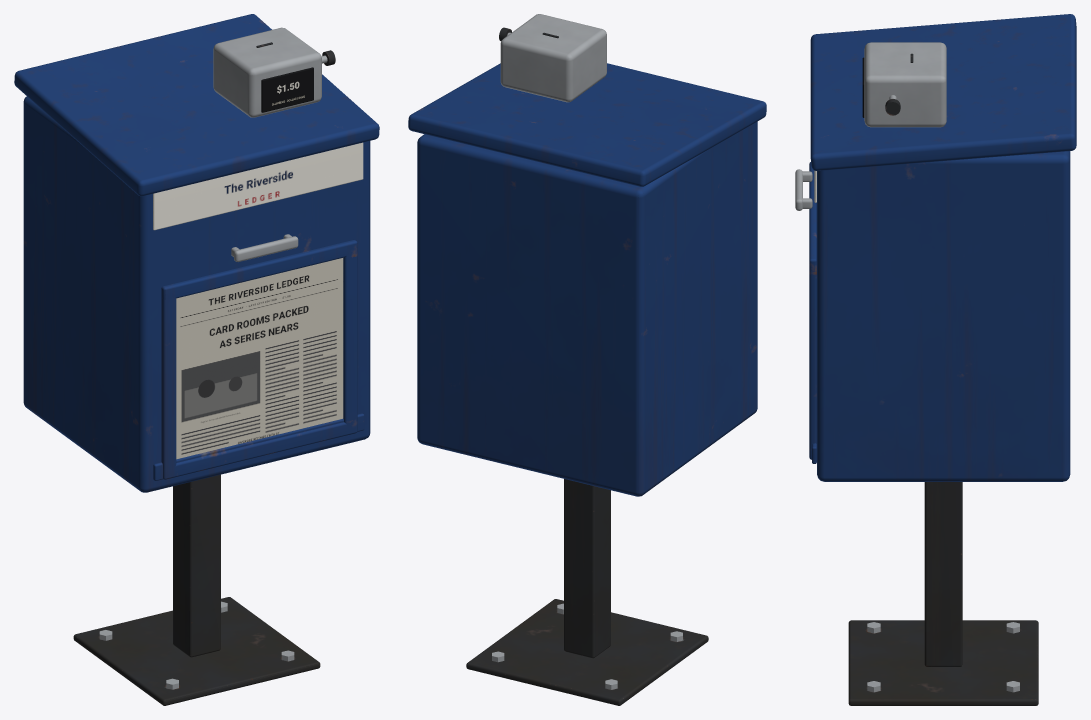
Rendered from SM_Newsbox.glb.
3 renders of one model, left to right at view 1: azimuth 30°, elevation 25°; view 2: azimuth 150°, elevation 25°; view 3: azimuth 270°, elevation 25°, orthographic. The views are drawn at different scales.
Visible parts, largest first — view 1: SM_Newsbox; view 2: SM_Newsbox; view 3: SM_Newsbox.
Boxes of the visible parts, x1=… form: SM_Newsbox: x1=14, y1=14, x2=379, y2=705; SM_Newsbox: x1=408, y1=14, x2=766, y2=705; SM_Newsbox: x1=795, y1=14, x2=1076, y2=705.
Bounding box in the file's own units: 0.46 × 1.11 × 0.4438.
6 materials, 6 textured.
